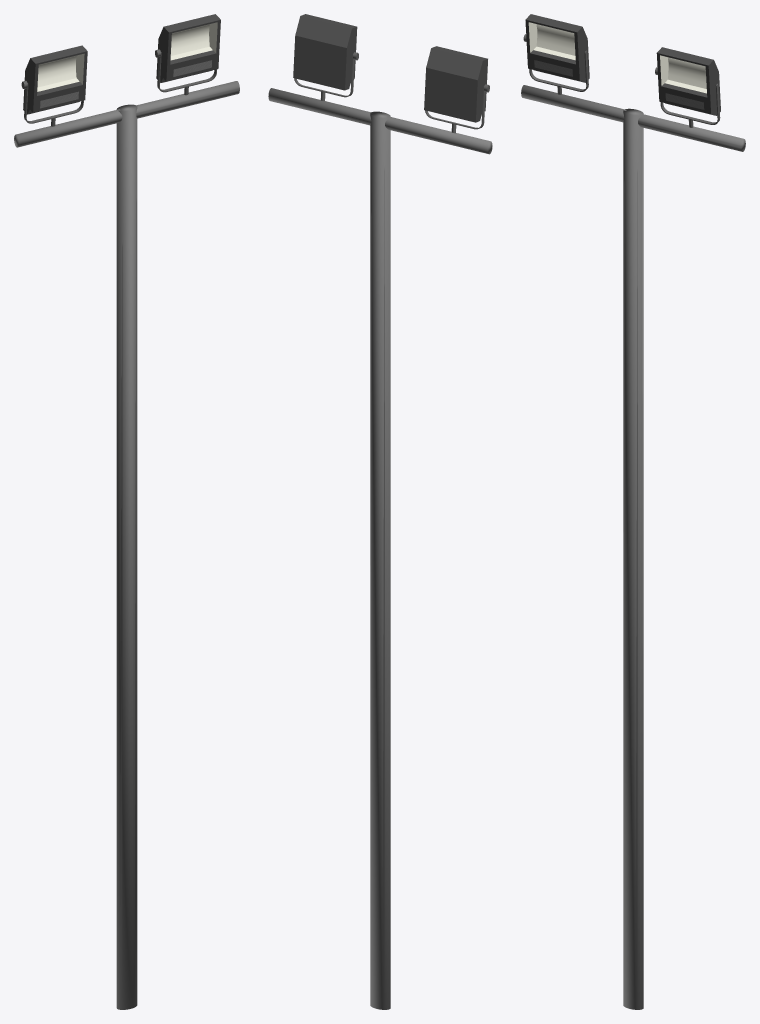
The model's file is poste_doble_led_deportivo.fbx.
The picture shows the model from 3 angles, left to right: view 1: azimuth 30°, elevation 25°; view 2: azimuth 150°, elevation 25°; view 3: azimuth 330°, elevation 25°; orthographic projection.
Parts seen in each view (by area): view 1: Componente_3_1, Soft_light_1000_watts1, Soft_light_1000_watts2; view 2: Componente_3_1, Soft_light_1000_watts2, Soft_light_1000_watts1; view 3: Componente_3_1, Soft_light_1000_watts1, Soft_light_1000_watts2.
Part boxes in pixels (box(x1,y1,x2,y2)): Componente_3_1: box(14, 81, 239, 1009); Soft_light_1000_watts1: box(21, 45, 87, 114); Soft_light_1000_watts2: box(155, 14, 220, 82); Componente_3_1: box(268, 88, 492, 1009); Soft_light_1000_watts2: box(293, 14, 358, 90); Soft_light_1000_watts1: box(424, 46, 489, 122); Componente_3_1: box(521, 85, 745, 1009); Soft_light_1000_watts1: box(523, 14, 589, 82); Soft_light_1000_watts2: box(655, 47, 720, 115).
Size of the model in its own units: 1.88 by 7.91 by 0.1939.
